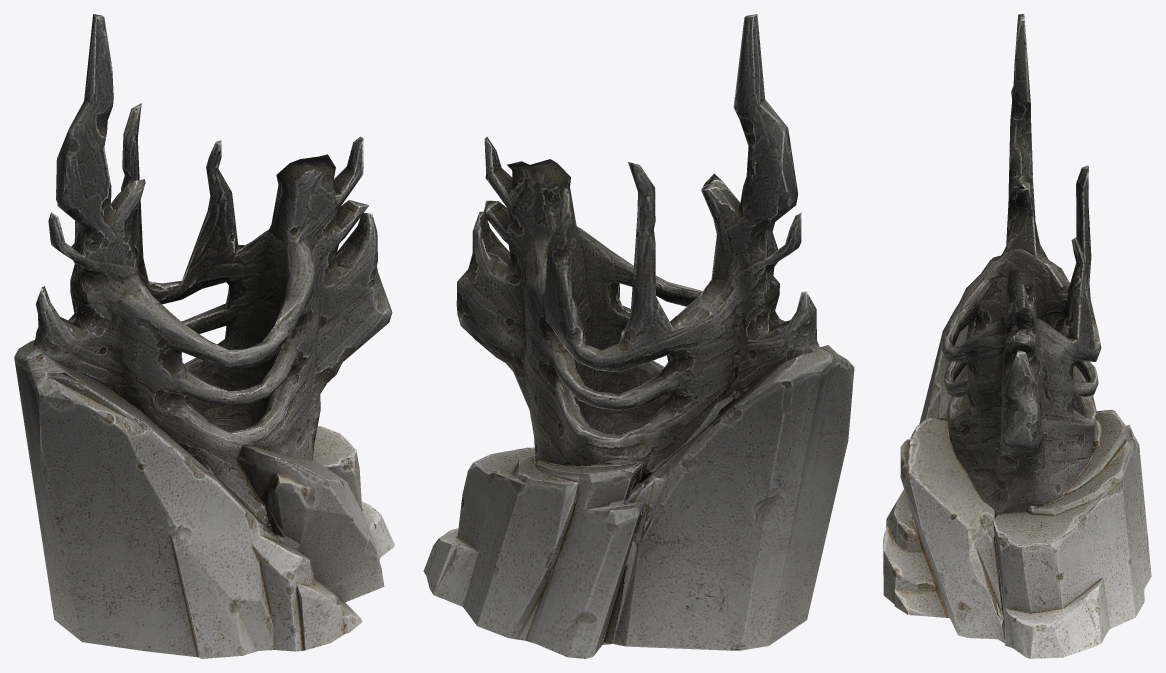
File: dire_statue001.fbx
3 renders of one model, left to right at view 1: azimuth 30°, elevation 25°; view 2: azimuth 150°, elevation 25°; view 3: azimuth 270°, elevation 25°, orthographic. The views are drawn at different scales.
Visible parts, largest first — view 1: dire_statue001; view 2: dire_statue001; view 3: dire_statue001.
Boxes of the visible parts, x1=… form: dire_statue001: x1=14, y1=14, x2=394, y2=658; dire_statue001: x1=423, y1=14, x2=854, y2=658; dire_statue001: x1=883, y1=14, x2=1151, y2=658.
Bounding box in the file's own units: 18376 × 28019 × 13099.
